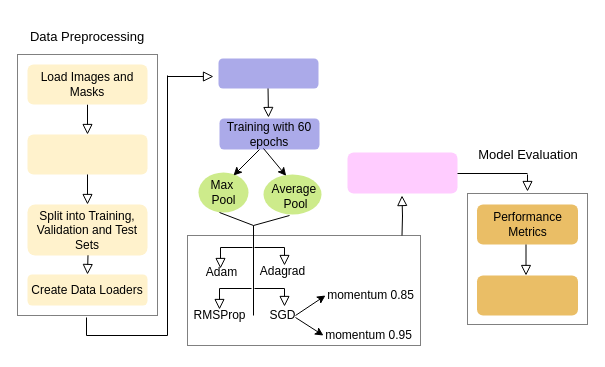
The diagram is 605 pixels wide and 367 high, and some of its shapes have lost their labels. Here are the shapes that lost their labels. From the top down, the centre of each, then its label:
point (268, 73): Learning Rate Scheduler
point (87, 154): Apply Transformations
point (402, 172): Testing on sample images
point (527, 295): ROC curve
